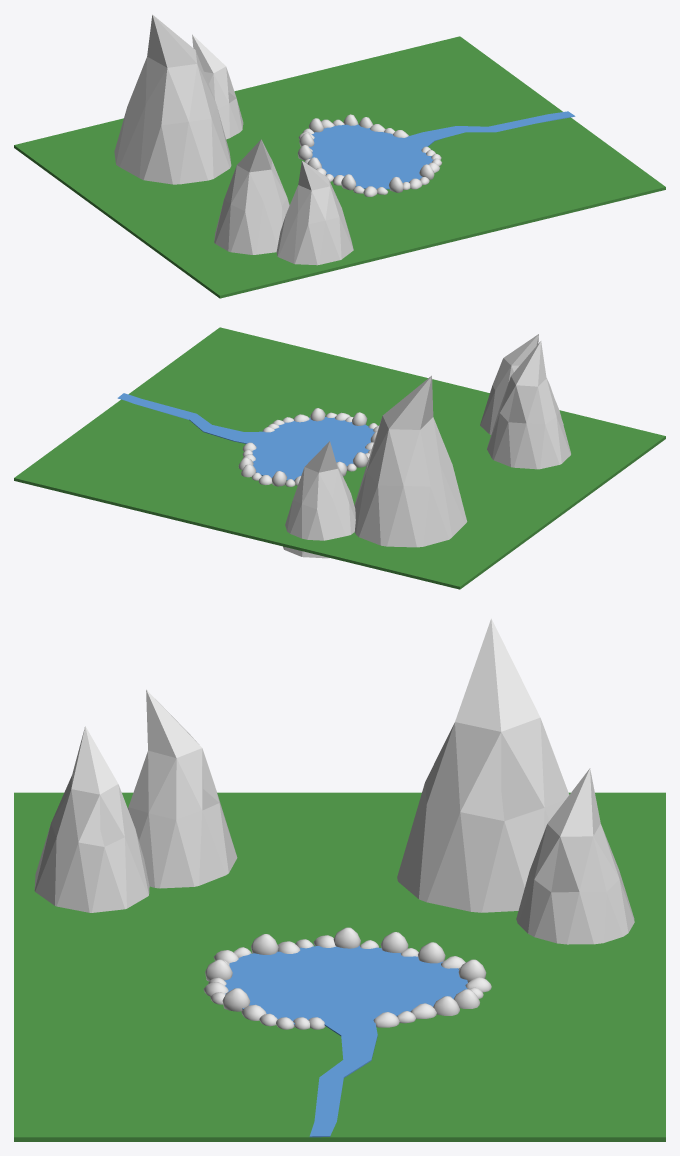
Rendered from Lake.fbx.
The picture shows the model from 3 angles, top to bottom: view 1: azimuth 30°, elevation 25°; view 2: azimuth 150°, elevation 25°; view 3: azimuth 270°, elevation 25°; orthographic projection. The views are drawn at different scales.
Visible parts, largest first — view 1: Cube, Icosphere.004, Cylinder, Icosphere.002, Icosphere.001, Icosphere.003; view 2: Cube, Icosphere.004, Icosphere.002, Cylinder, Icosphere.003, Icosphere.001; view 3: Cube, Icosphere.004, Cylinder, Icosphere.002, Icosphere.001, Icosphere.003.
Boxes of the visible parts, bbox=[...] form: Cube: bbox=[14, 36, 665, 298]; Icosphere.004: bbox=[114, 14, 231, 184]; Cylinder: bbox=[309, 111, 575, 189]; Icosphere.002: bbox=[214, 139, 289, 254]; Icosphere.001: bbox=[276, 161, 353, 265]; Icosphere.003: bbox=[192, 34, 243, 139]; Cube: bbox=[14, 327, 665, 589]; Icosphere.004: bbox=[354, 375, 467, 547]; Icosphere.002: bbox=[487, 341, 570, 469]; Cylinder: bbox=[117, 393, 374, 480]; Icosphere.003: bbox=[283, 441, 355, 558]; Icosphere.001: bbox=[480, 334, 563, 434]; Cube: bbox=[14, 792, 665, 1141]; Icosphere.004: bbox=[397, 618, 569, 912]; Cylinder: bbox=[224, 945, 467, 1137]; Icosphere.002: bbox=[128, 689, 237, 888]; Icosphere.001: bbox=[34, 726, 149, 912]; Icosphere.003: bbox=[516, 768, 634, 944].
Bounding box in the file's own units: 25495 × 9402 × 20265.
